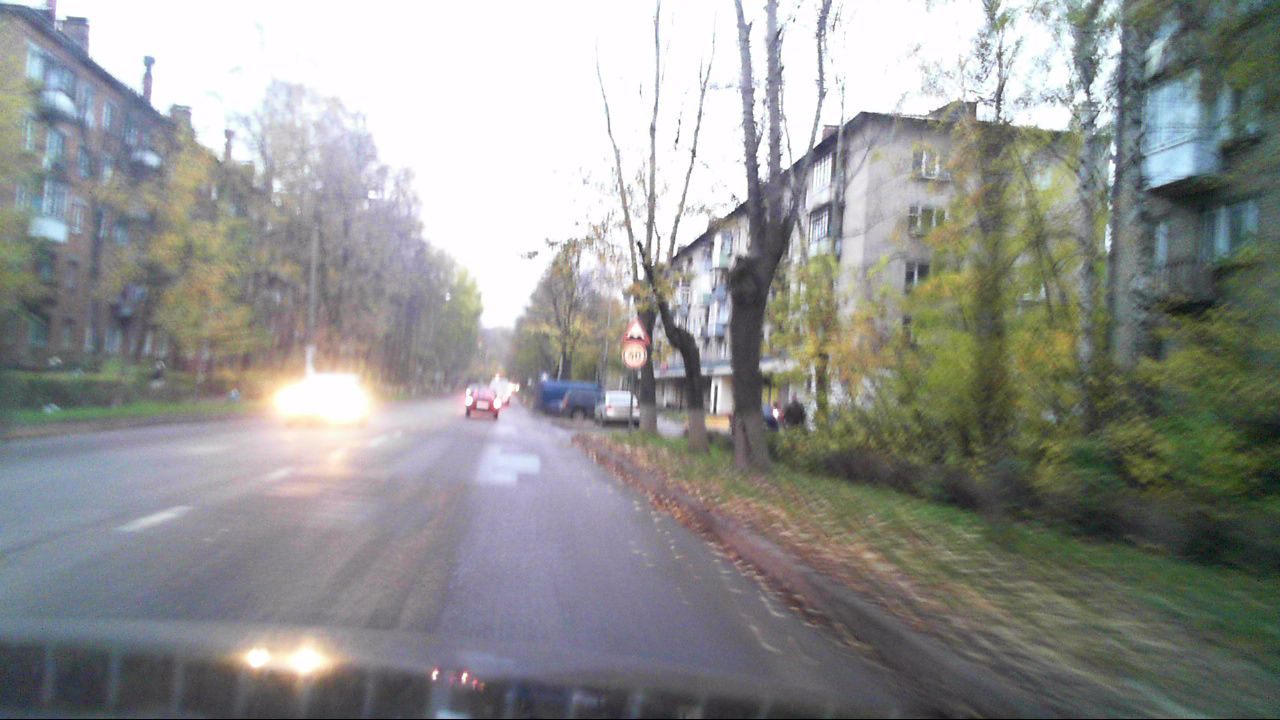speed_warning_40: (623, 344, 646, 367)
